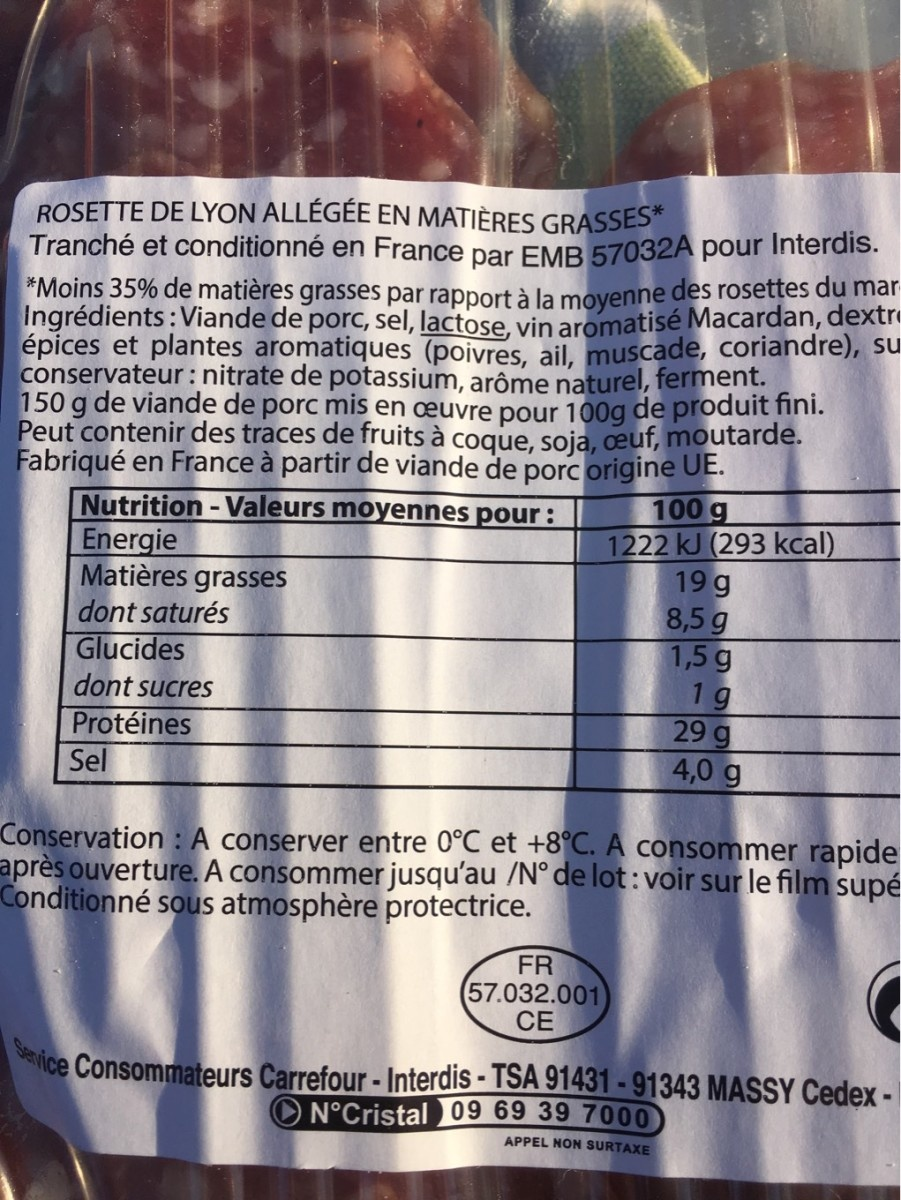column: (68, 492, 558, 776), (609, 500, 835, 789)
table: (53, 484, 901, 803)
